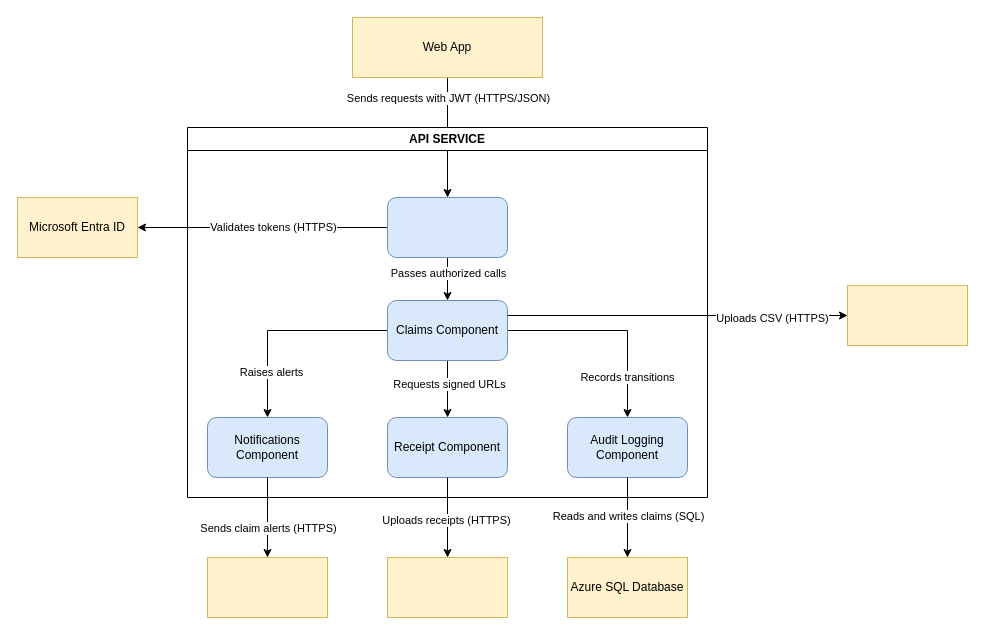
This 985x635 diagram has some shape labels left out. Each missing label, with the centre of its shape:
Auth Component: the point at 447,227
Azure Blob Storage: the point at 447,587
Notification Service: the point at 267,587
SharePoint: the point at 907,315
